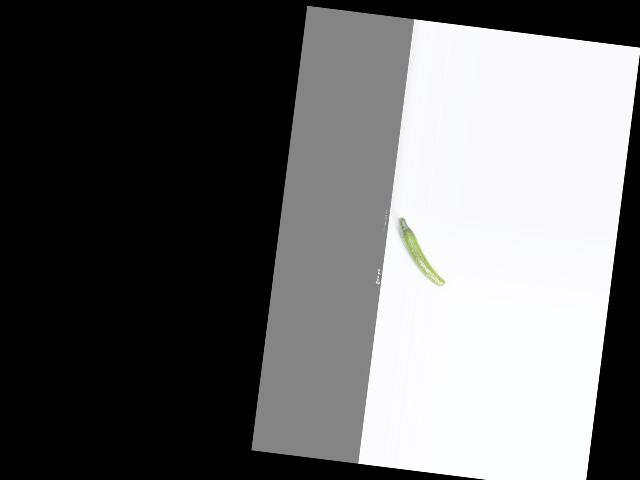cucumber: (390, 215, 452, 286)
